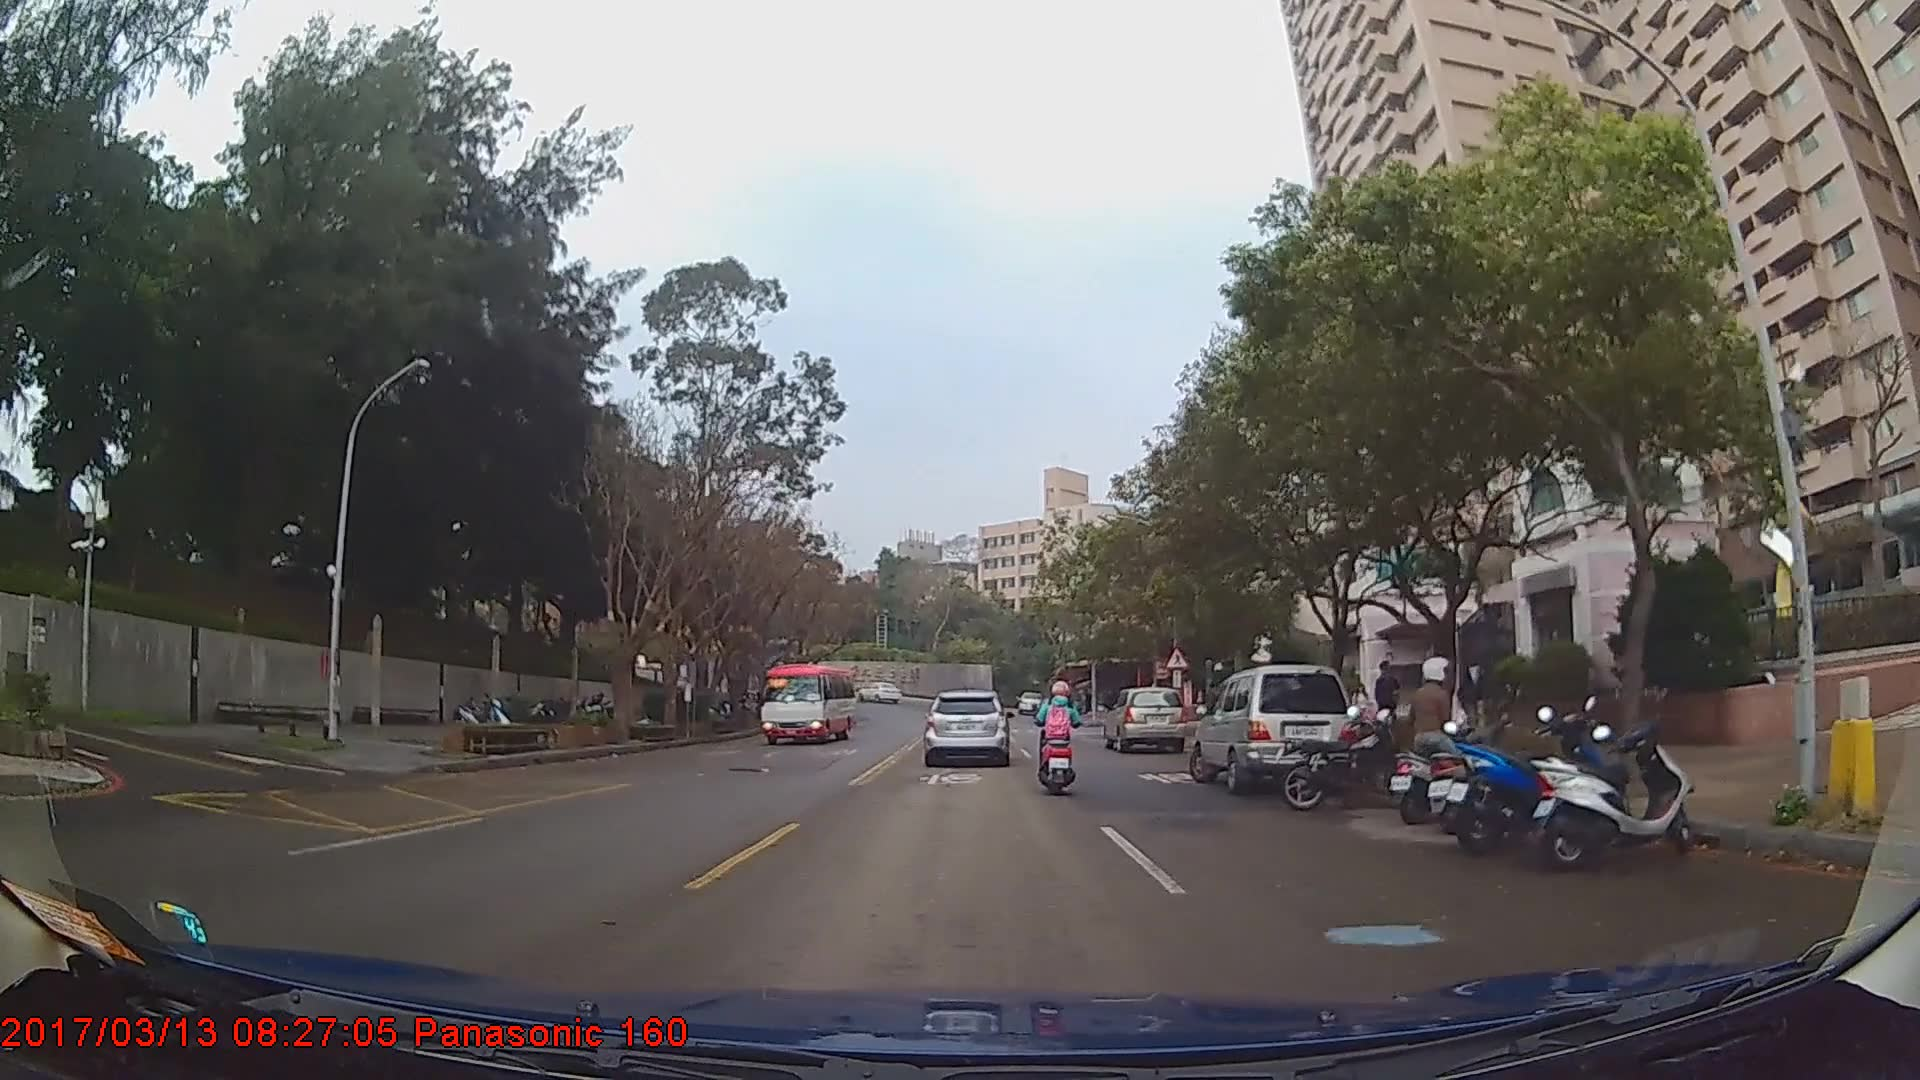pedestrian: (1376, 657, 1403, 733)
rider: (1388, 656, 1483, 820), (1033, 669, 1087, 798)
vehicle: (1189, 662, 1357, 793), (760, 660, 855, 743), (922, 684, 1010, 763), (1102, 684, 1185, 751), (855, 676, 903, 702)
